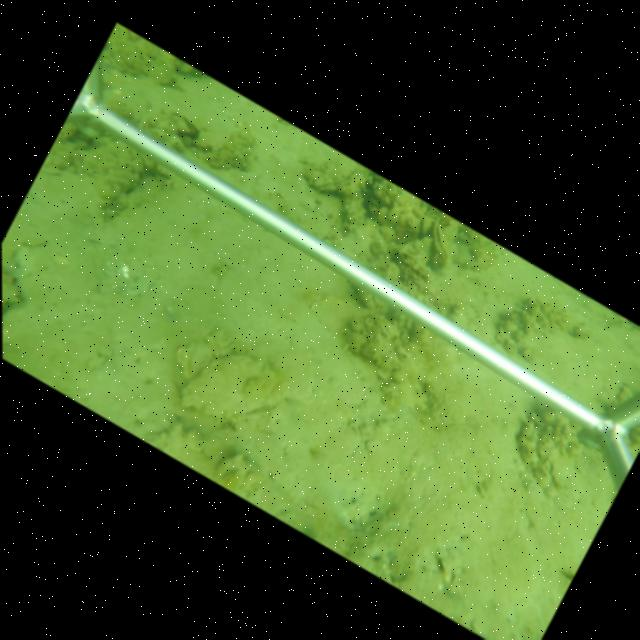Oyster-Closed: (177, 350, 291, 428), (534, 425, 585, 494), (304, 160, 367, 198)
Oyster-Open: (431, 220, 454, 266)
